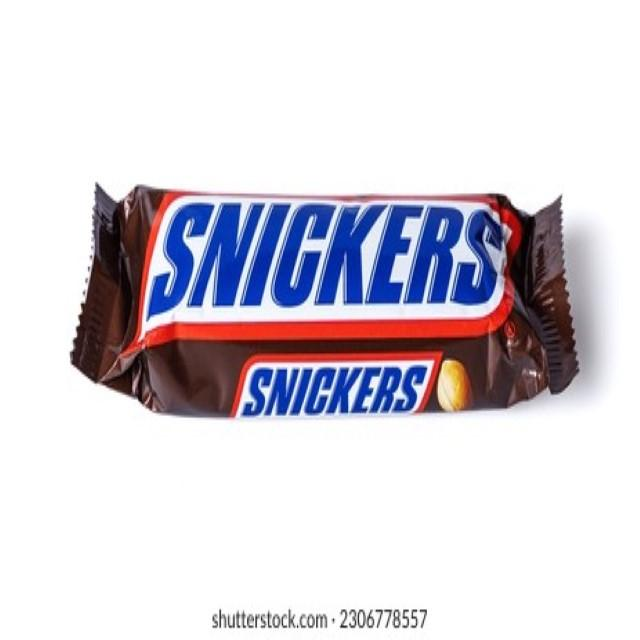snickers_chocolate: (119, 183, 548, 412)
